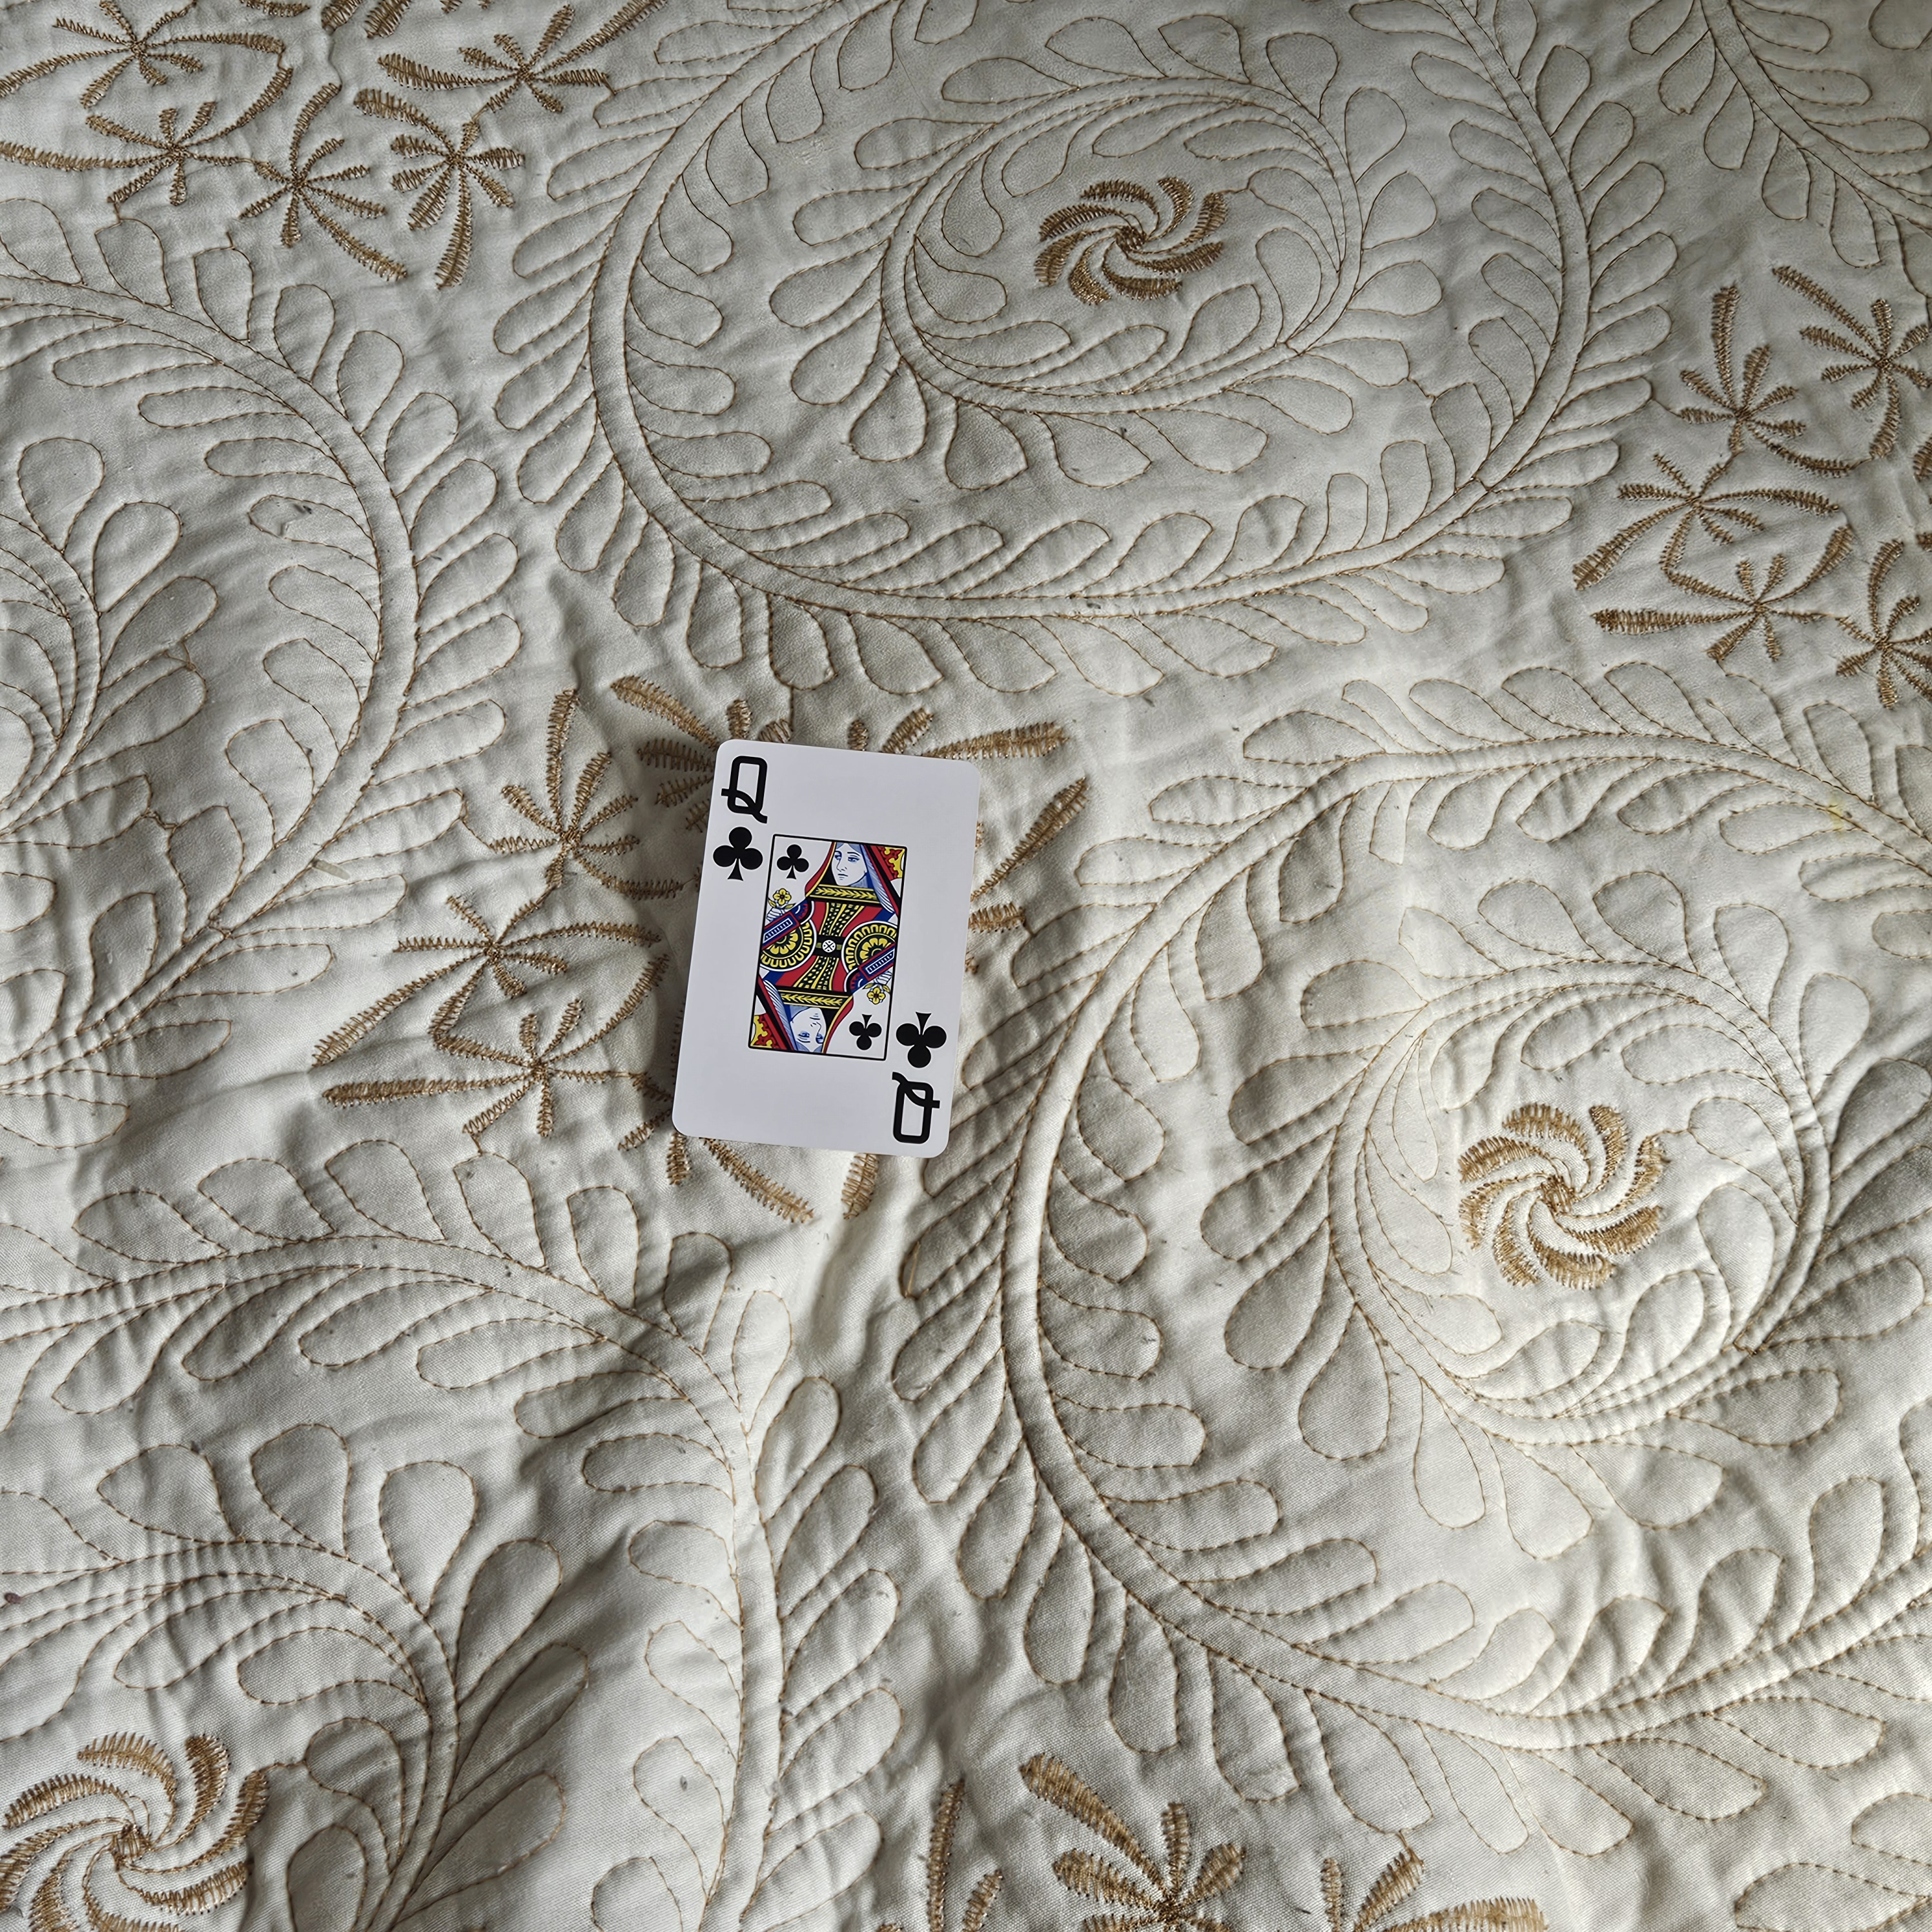QP: (883, 1001, 950, 1159), (704, 748, 777, 886)
